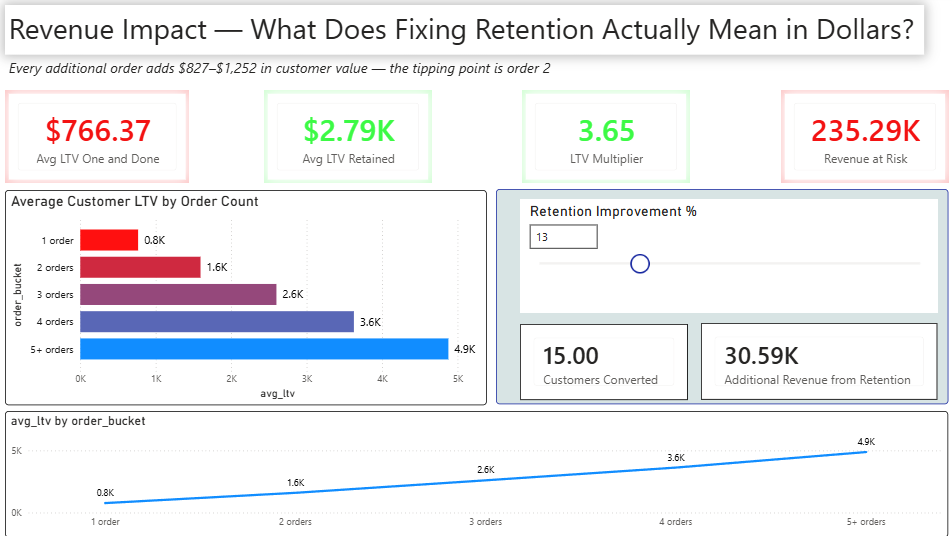

The page's visual inventory and layout, read from the dashboard file:
{"tool":"powerbi","page":{"name":"Revenue Impact","canvas":[1280,720],"ordinal":4},"visuals":[{"type":"cardVisual","title":"Avg. LTV — One-and-Done Customers","fields":{"Data":["fact_customer_orders.Avg LTV One and Done"]},"box":[15.1,126,245.2,124.3],"z":1000},{"type":"cardVisual","title":"Avg. LTV — Retained Customers","fields":{"Data":["fact_customer_orders.Avg LTV Retained"]},"box":[358.4,126,223.4,124.3],"z":2000},{"type":"cardVisual","title":"LTV Multiplier","fields":{"Data":["fact_customer_orders.LTV Multiplier"]},"box":[701.6,126,223.4,124.3],"z":3000},{"type":"cardVisual","title":"Revenue at Risk from One-and-Done Customers","fields":{"Data":["fact_customer_orders.Revenue at Risk"]},"box":[1044.8,126,223.4,124.3],"z":4000},{"type":"clusteredBarChart","title":"Average Customer LTV by Order Count","fields":{"Y":["Sum(ltv_by_order_bucket.avg_ltv)"],"Category":["ltv_by_order_bucket.order_bucket"]},"box":[15.1,258.7,640,285.6],"z":5000},{"type":"textbox","box":[666.9,258.4,601.4,285.6],"z":6000},{"type":"cardVisual","fields":{"Data":["Retention Improvement %.Customers Converted"]},"box":[698.8,436.7,223.4,100.8],"z":7000},{"type":"cardVisual","fields":{"Data":["Retention Improvement %.Additional Revenue from Retention"]},"box":[939,435.1,314.1,102.5],"z":8000},{"type":"slicer","fields":{"Values":["Retention Improvement %.Retention Improvement %"]},"box":[698.8,270.4,554.3,151.2],"z":9000},{"type":"textbox","box":[15.1,79,730.7,47],"z":9500},{"type":"lineChart","title":"avg_ltv by order_bucket","fields":{"Category":["ltv_by_order_bucket.order_bucket"],"Y":["Sum(ltv_by_order_bucket.avg_ltv)"]},"box":[15.1,552,1253.1,168],"z":10000},{"type":"textbox","box":[15.1,13.4,1221.2,65.5],"z":10500}]}

Visuals, with their boxes in screenshot pixels (x1, y1, x2, y2), scaled from the page's 1280x720 canvas onto the 952x536 screenshot:
"Avg. LTV — One-and-Done Customers" cardVisual: [x1=11, y1=94, x2=194, y2=186]
"Avg. LTV — Retained Customers" cardVisual: [x1=267, y1=94, x2=433, y2=186]
"LTV Multiplier" cardVisual: [x1=522, y1=94, x2=688, y2=186]
"Revenue at Risk from One-and-Done Customers" cardVisual: [x1=777, y1=94, x2=943, y2=186]
"Average Customer LTV by Order Count" clusteredBarChart: [x1=11, y1=193, x2=487, y2=405]
textbox: [x1=496, y1=192, x2=943, y2=405]
cardVisual - Retention Improvement %.Customers Converted: [x1=520, y1=325, x2=686, y2=400]
cardVisual - Retention Improvement %.Additional Revenue from Retention: [x1=698, y1=324, x2=932, y2=400]
slicer - Retention Improvement %.Retention Improvement %: [x1=520, y1=201, x2=932, y2=314]
textbox: [x1=11, y1=59, x2=555, y2=94]
"avg_ltv by order_bucket" lineChart: [x1=11, y1=411, x2=943, y2=535]
textbox: [x1=11, y1=10, x2=919, y2=59]
